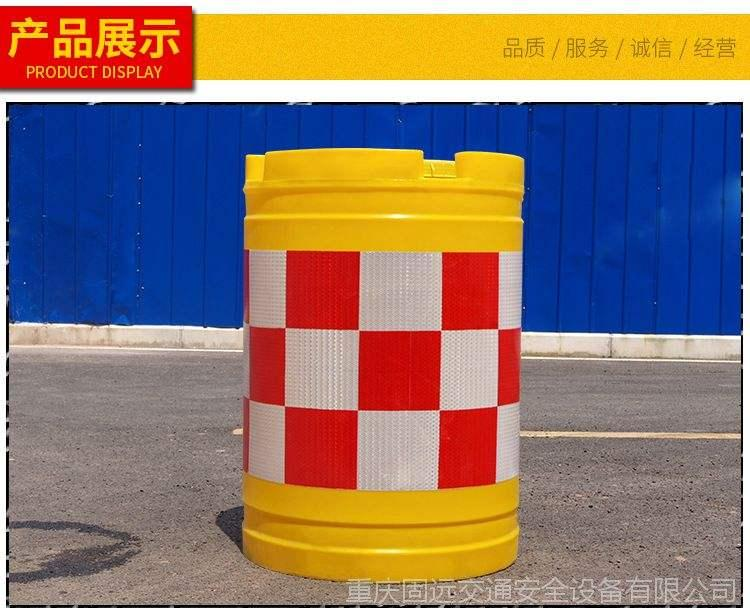sign: (229, 139, 528, 583)
